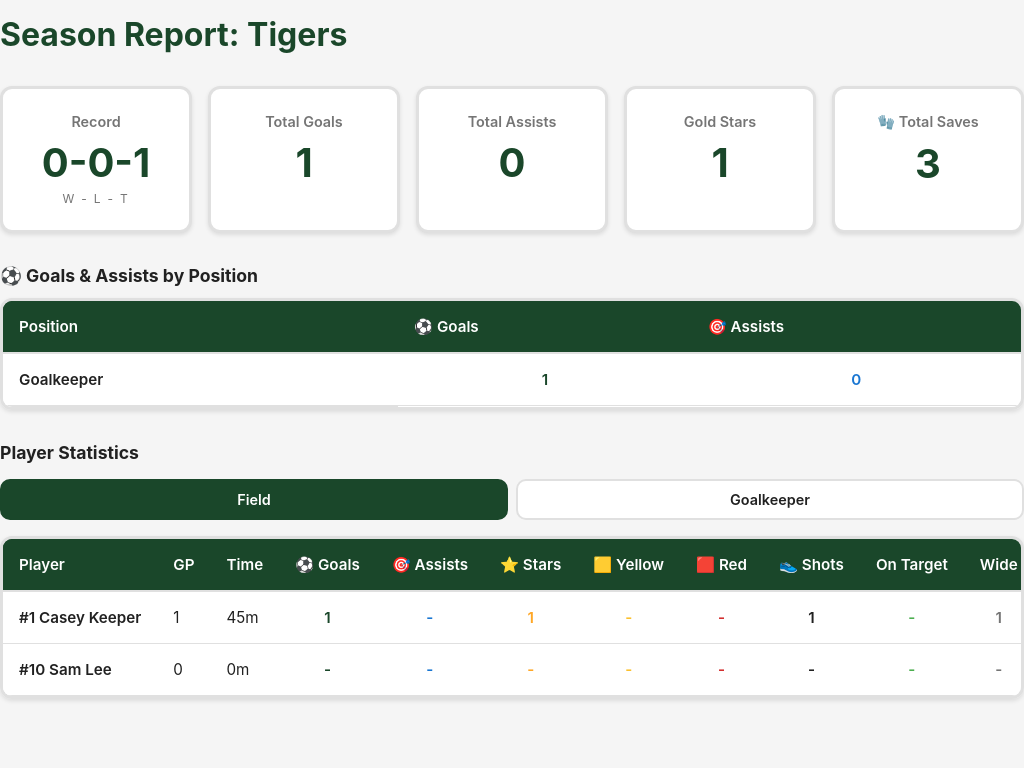
Test case: TeamReport › Issue #203: Saves by Goalie › drill-down section ordering: keeper breakout -> Play Time -> Goals & Assists -> Saves -> Shots -> Goals -> Assists -> Stars -> Yellow -> Red
Expected: the text "#1 Casey Keeper" is shown, [3,591,157,643]
What coordinates should you click on to do the following:
click the text "#1 Casey Keeper 1 45m 1 - 1 - - 1 - 1 -"
I would click on:
 (514, 617)
Its box is [3,591,1023,643].
(page scrolled)
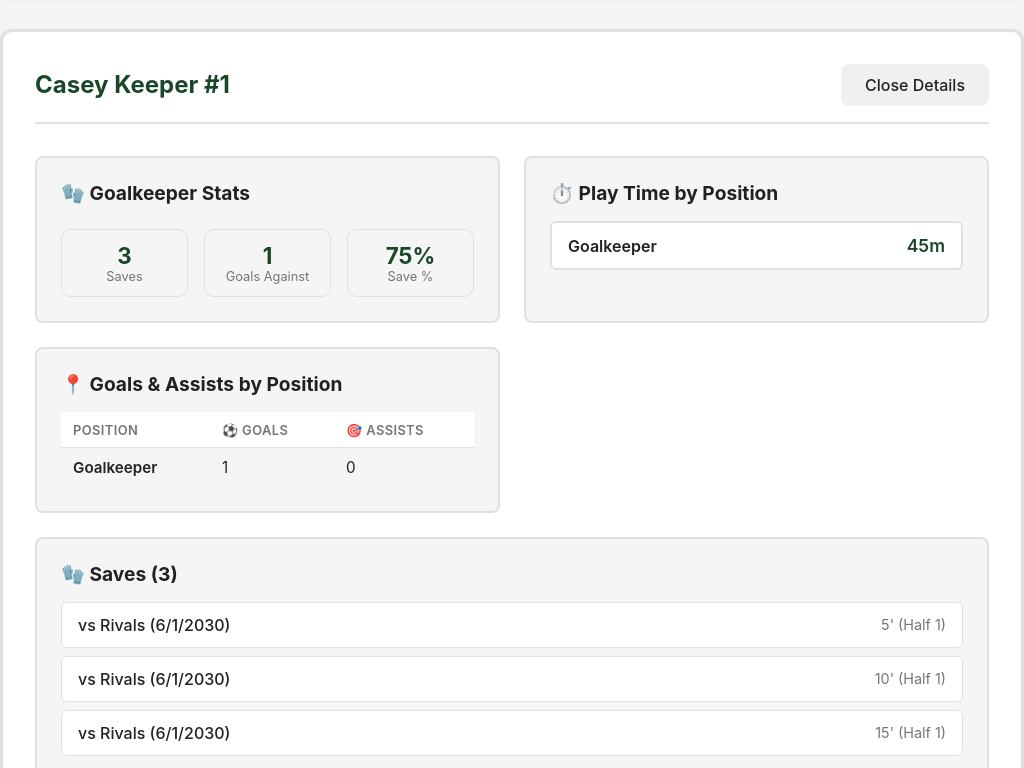
Expected: the heading "🧤 Goalkeeper Stats" is shown, [61,181,250,205]
Expected: the heading "⏱️ Play Time by Position" is shown, [550,181,778,205]
Expected: the heading "📍 Goals & Assists by Position" is shown, [61,372,342,396]
